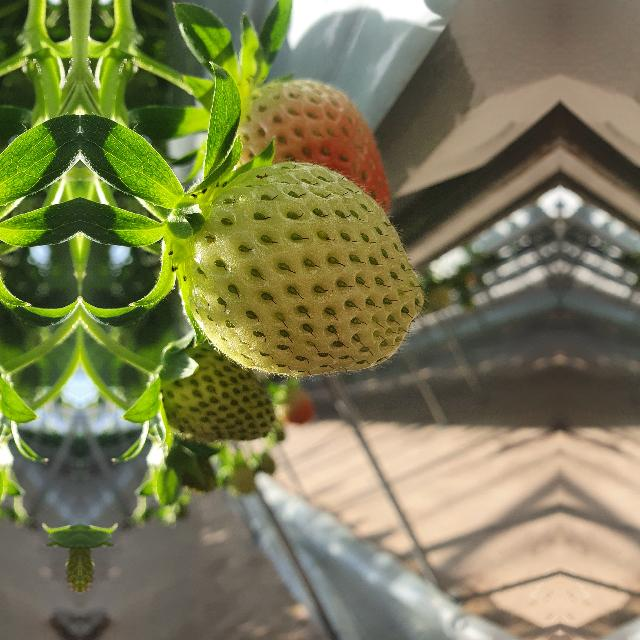Health_25: (184, 162, 423, 376), (156, 346, 278, 444)
